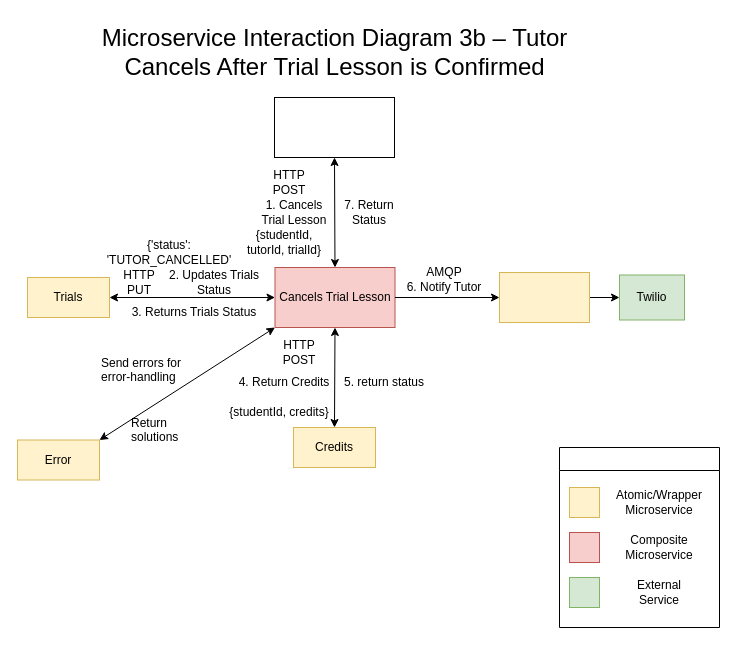
Some shapes in this 737 by 645 pixel diagram are drawn without their labels. Here are the shapes that lost their labels. From the top down, the box of each, then its label:
(274, 96, 394, 158): Tutor UI
(498, 272, 590, 322): Notification
(558, 446, 720, 628): Legend
